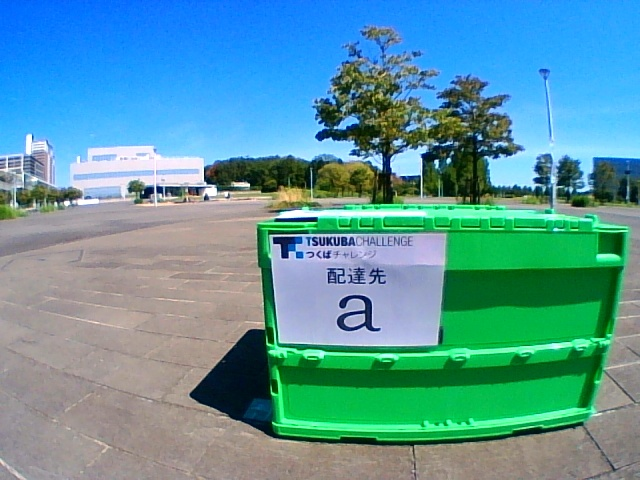green_box: (257, 204, 629, 441)
tag_a: (279, 237, 438, 344)
